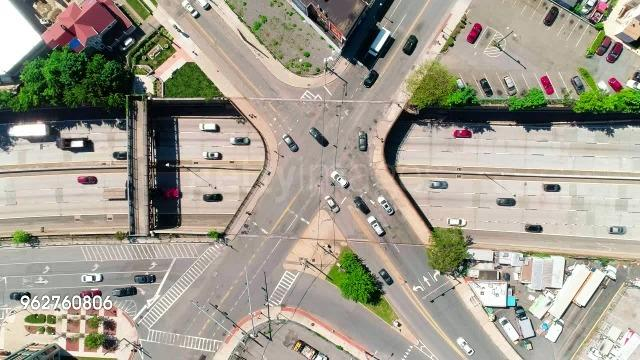car: (530, 71, 560, 95), (461, 18, 485, 46), (498, 74, 526, 98), (452, 332, 478, 356), (564, 74, 592, 96), (328, 170, 354, 192), (280, 130, 302, 154), (401, 34, 423, 54), (375, 194, 397, 214), (543, 4, 559, 30), (368, 216, 388, 236), (361, 68, 379, 90), (351, 198, 375, 214), (323, 194, 341, 214), (455, 78, 473, 98), (605, 78, 627, 94), (180, 0, 198, 18), (480, 78, 498, 96), (308, 129, 326, 145), (378, 270, 396, 286), (109, 150, 133, 162), (599, 34, 613, 54), (425, 179, 449, 190), (452, 128, 474, 140), (524, 222, 548, 233), (609, 41, 621, 63), (113, 286, 139, 296), (196, 122, 222, 132), (356, 134, 370, 152), (494, 198, 518, 208), (79, 290, 103, 300), (74, 173, 98, 183), (202, 193, 226, 203), (135, 273, 157, 283), (230, 136, 252, 146), (193, 0, 214, 10), (10, 291, 30, 301), (204, 151, 224, 161), (81, 274, 105, 282), (542, 182, 560, 192), (608, 226, 628, 234)
truck: (362, 26, 392, 68), (105, 186, 182, 200), (509, 304, 538, 340), (53, 130, 95, 150), (492, 316, 524, 342), (1, 124, 54, 138)
